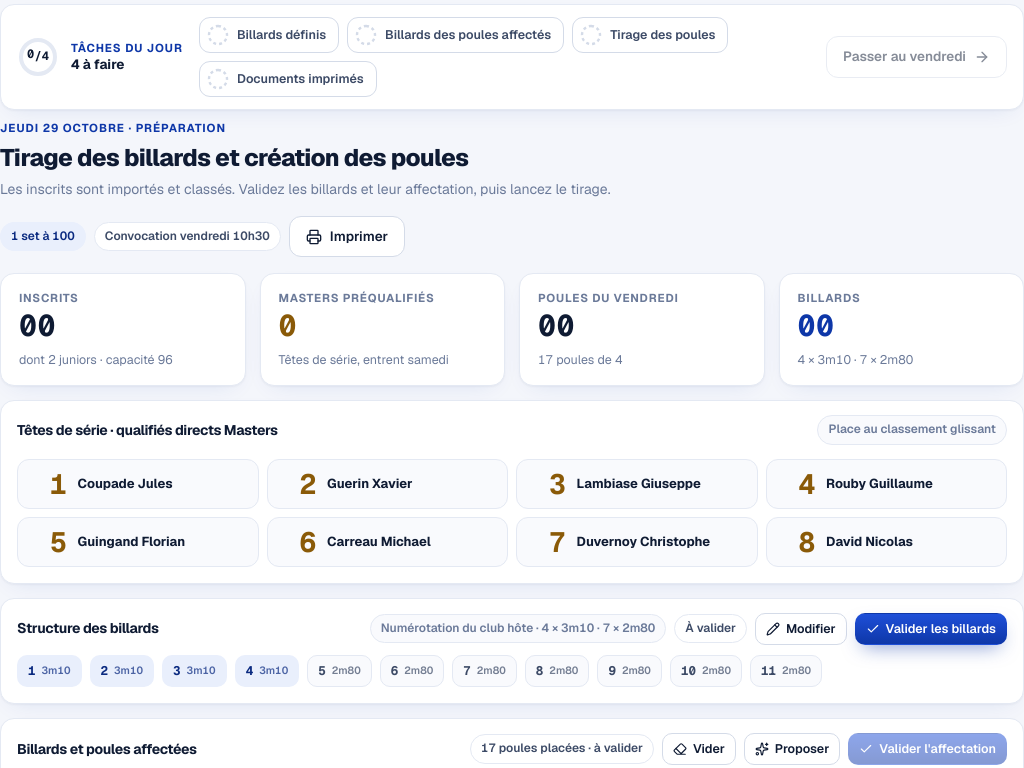
Test: vue Jeudi › billards et affectation : rien n'est fait à l'ouverture, le DJ valide les deux parties
The width and height of the screenshot is (1024, 768).
expect the text "À valider" is shown: met, box [674, 614, 747, 643]
expect the text "17 poules placées · à valider" is shown: met, box [470, 734, 654, 764]
Click the button "Valider les billards": click(931, 629) [855, 612, 1007, 645]
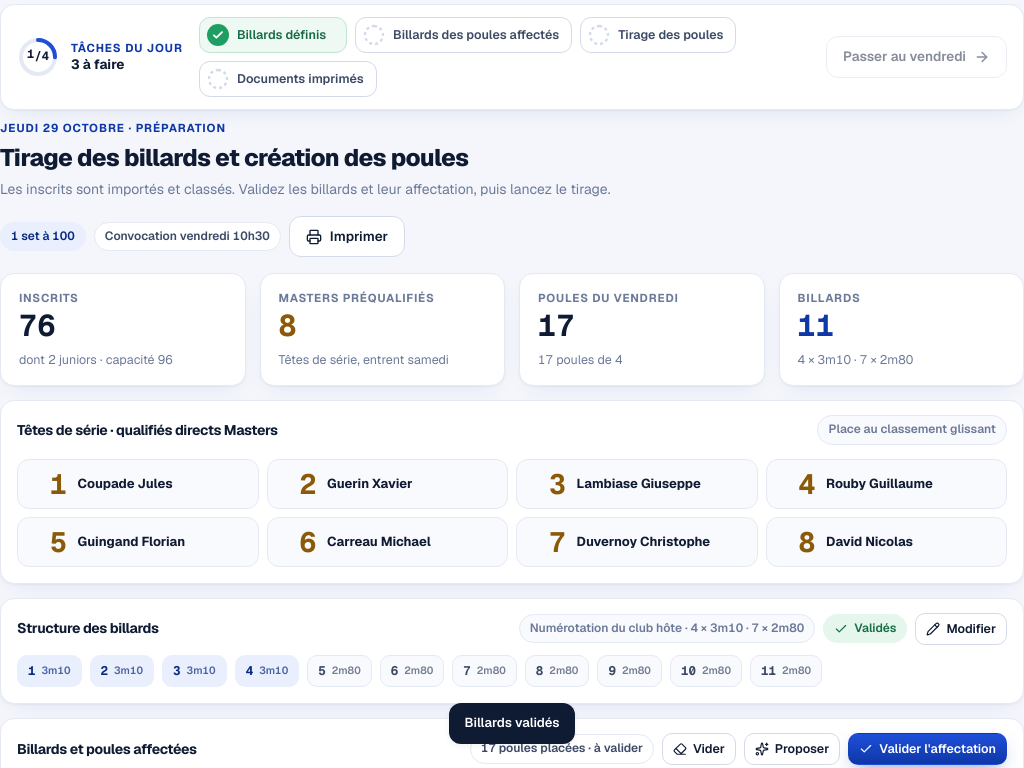
expect the text "Validés" is shown: met, box [823, 614, 907, 643]
expect the button "Valider les billards" is gone: met
Click the button "Valider l'affectation": click(928, 749) [848, 733, 1007, 765]
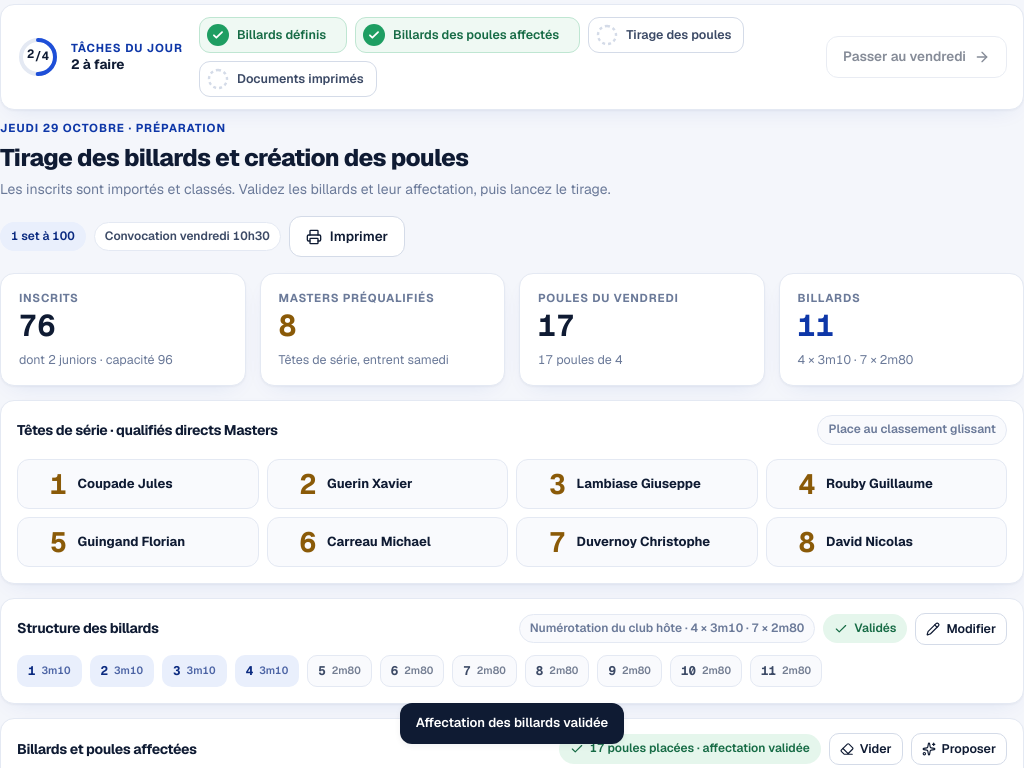
expect the text "17 poules placées · affectation validée" is shown: met, box [559, 734, 821, 764]
expect the button "Valider l'affectation" is gone: met
